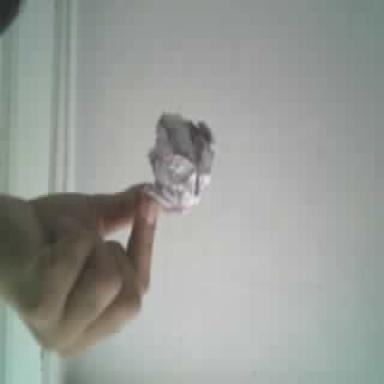paper: (148, 114, 214, 210)
